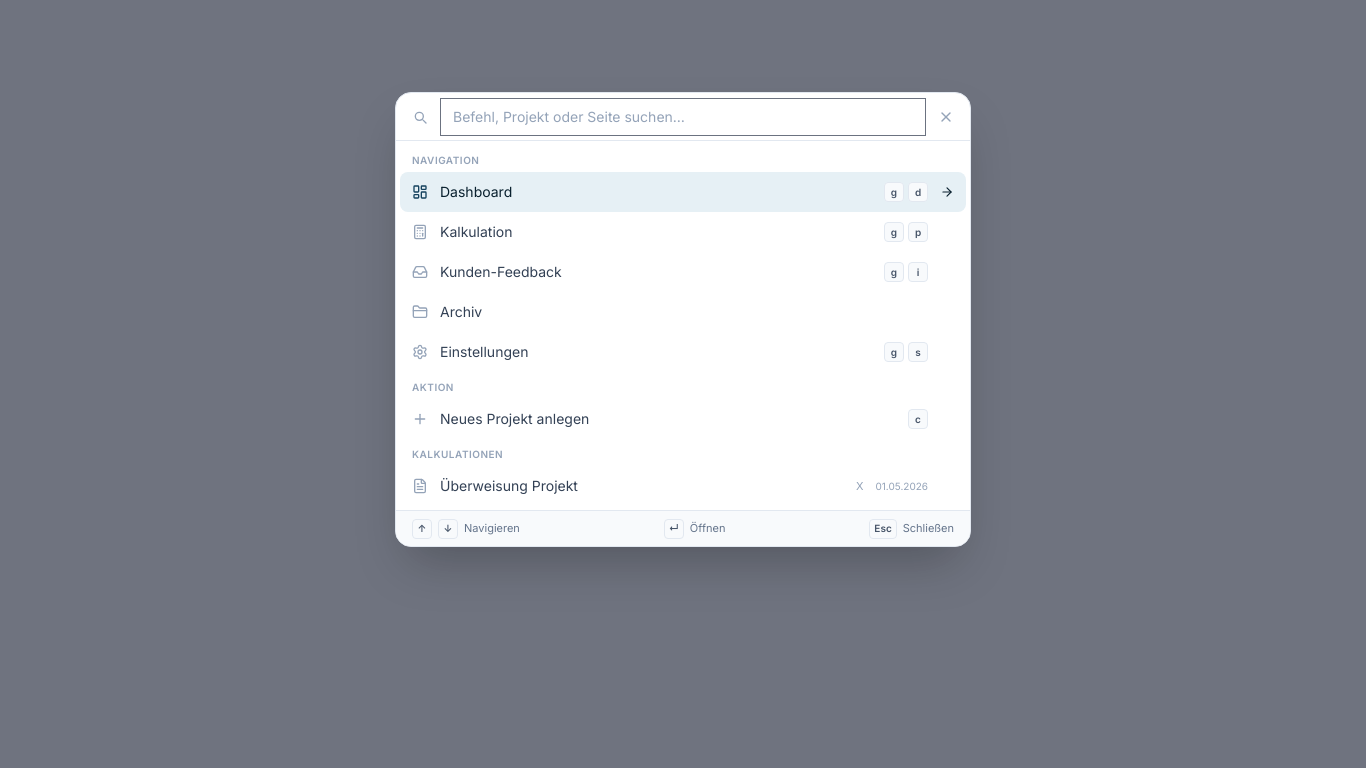
CommandPalette edges — diacritics in search query › CURRENT BEHAVIOR — query "uber" (no umlaut) does NOT match "Überweisung"
The image size is (1366, 768).
Expected: the text "Überweisung Projekt" is shown, [440,477,578,494]
In the field with placeholder "Befehl, Projekt oder Seite suchen…": [683, 117] box [440,98,926,136], type "uberweisung"
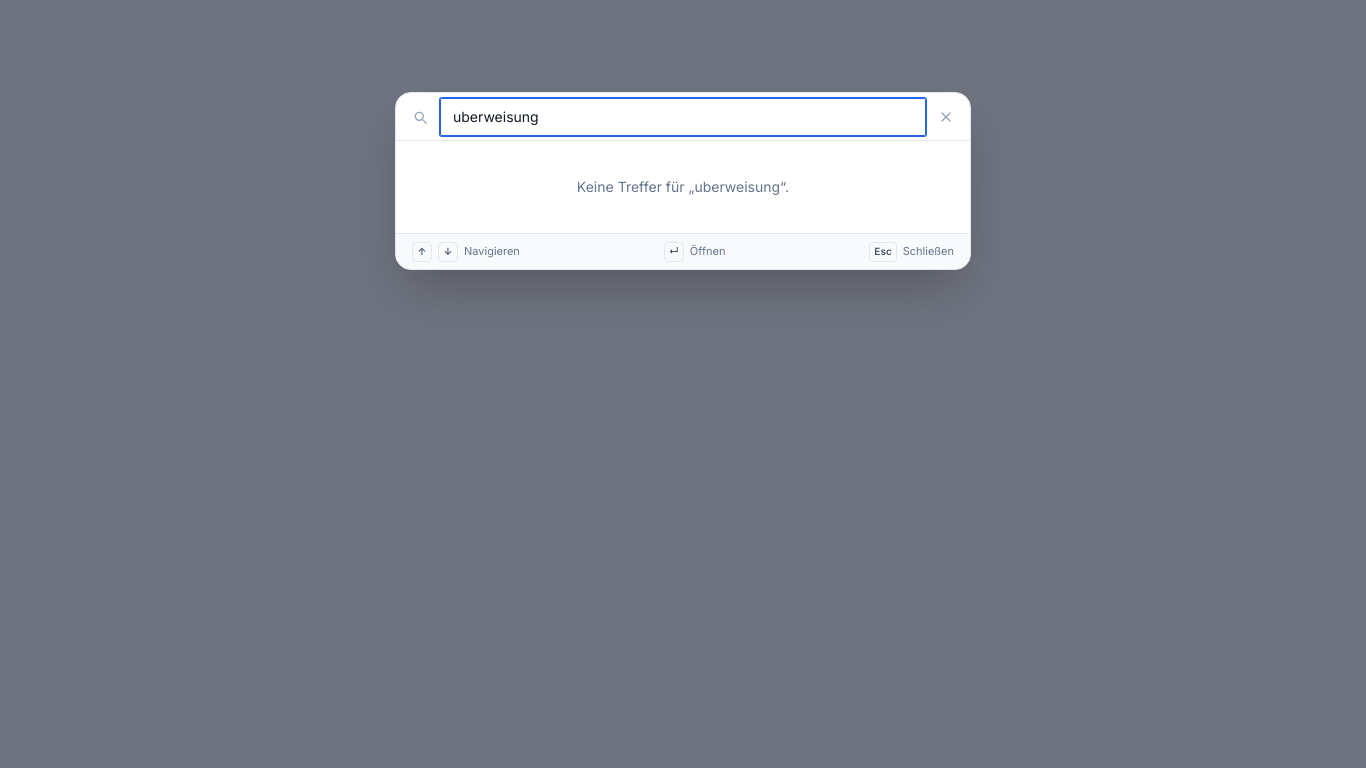
Expected: the text "Keine Treffer für „uberweisung“." is shown, [577,178,789,195]
Expected: the button "Überweisung Projekt" is gone
